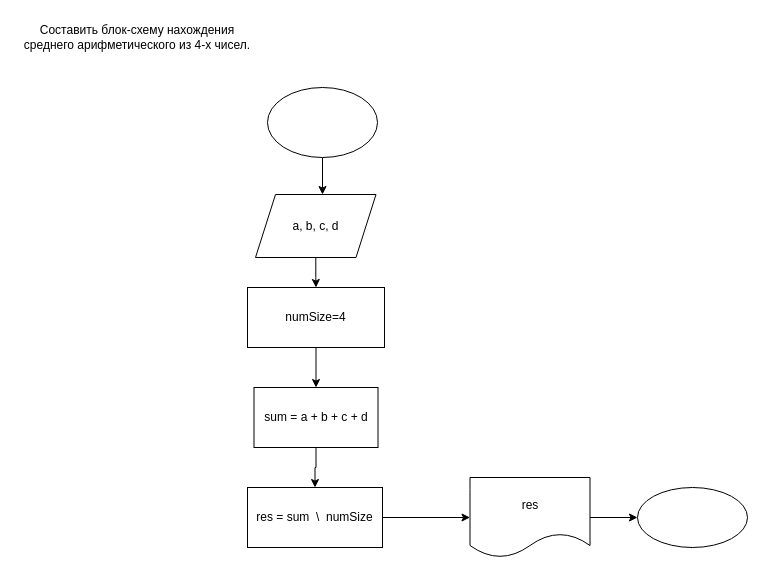
Image size: 765x575. Some labels were removed from this diagram. The shapes that lost their labels are listed below. From the top down, each one's box as (x1, y1, x2, y2) in pixels, then its label:
(266, 86, 378, 158): Start
(636, 486, 748, 548): end
